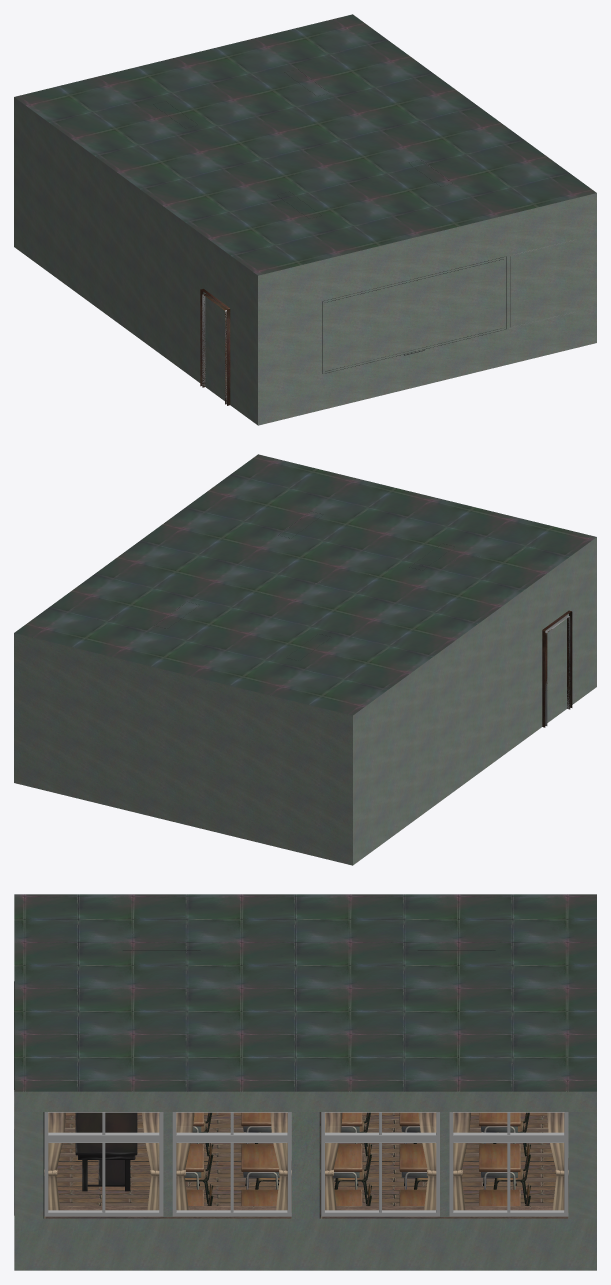
The model's file is classroom_required.fbx.
3 views of the same model, one above another, from view 1: azimuth 30°, elevation 25°; view 2: azimuth 150°, elevation 25°; view 3: azimuth 270°, elevation 25° (orthographic). The views are drawn at different scales.
Visible parts, largest first — view 1: wall, ceilling, Door.001|Door_L_door.blend|Dupli|, Collection|board_L_board.blend|Dupli|; view 2: wall, ceilling, Door.001|Door_L_door.blend|Dupli|; view 3: ceilling, wall, ground, Cube, Window.003|Window_L_Window.blend|Dupli|1, Window.002|Window_L_Window.blend|Dupli|1, wall.002, Window.002|Plane_L_Window.blend|Dupli|4, Window.003|Plane_L_Window.blend|Dupli|4, teacherDesk.001|teacherDesk_L_teacherDesk.blend|Dupli|, wall.001, Window.003|WindowWoodPlate_L_Window.blend|Dupli|3 (+3 smaller).
Boxes of the visible parts, bbox=[...] form: wall: bbox=[14, 97, 596, 425]; ceilling: bbox=[14, 14, 596, 275]; Door.001|Door_L_door.blend|Dupli|: bbox=[200, 288, 230, 405]; Collection|board_L_board.blend|Dupli|: bbox=[322, 239, 575, 373]; wall: bbox=[14, 537, 596, 865]; ceilling: bbox=[14, 454, 596, 715]; Door.001|Door_L_door.blend|Dupli|: bbox=[542, 610, 572, 727]; ceilling: bbox=[14, 894, 596, 1091]; wall: bbox=[14, 1091, 596, 1270]; ground: bbox=[56, 1112, 556, 1218]; Cube: bbox=[185, 1112, 520, 1216]; Window.003|Window_L_Window.blend|Dupli|1: bbox=[44, 1112, 291, 1216]; Window.002|Window_L_Window.blend|Dupli|1: bbox=[321, 1112, 568, 1216]; wall.002: bbox=[14, 1112, 596, 1218]; Window.002|Plane_L_Window.blend|Dupli|4: bbox=[320, 1112, 568, 1212]; Window.003|Plane_L_Window.blend|Dupli|4: bbox=[44, 1112, 291, 1212]; teacherDesk.001|teacherDesk_L_teacherDesk.blend|Dupli|: bbox=[75, 1112, 137, 1191]; wall.001: bbox=[291, 1112, 320, 1218]; Window.003|WindowWoodPlate_L_Window.blend|Dupli|3: bbox=[44, 1206, 291, 1218].
Size of the model in its own units: 811 by 342 by 1004.
